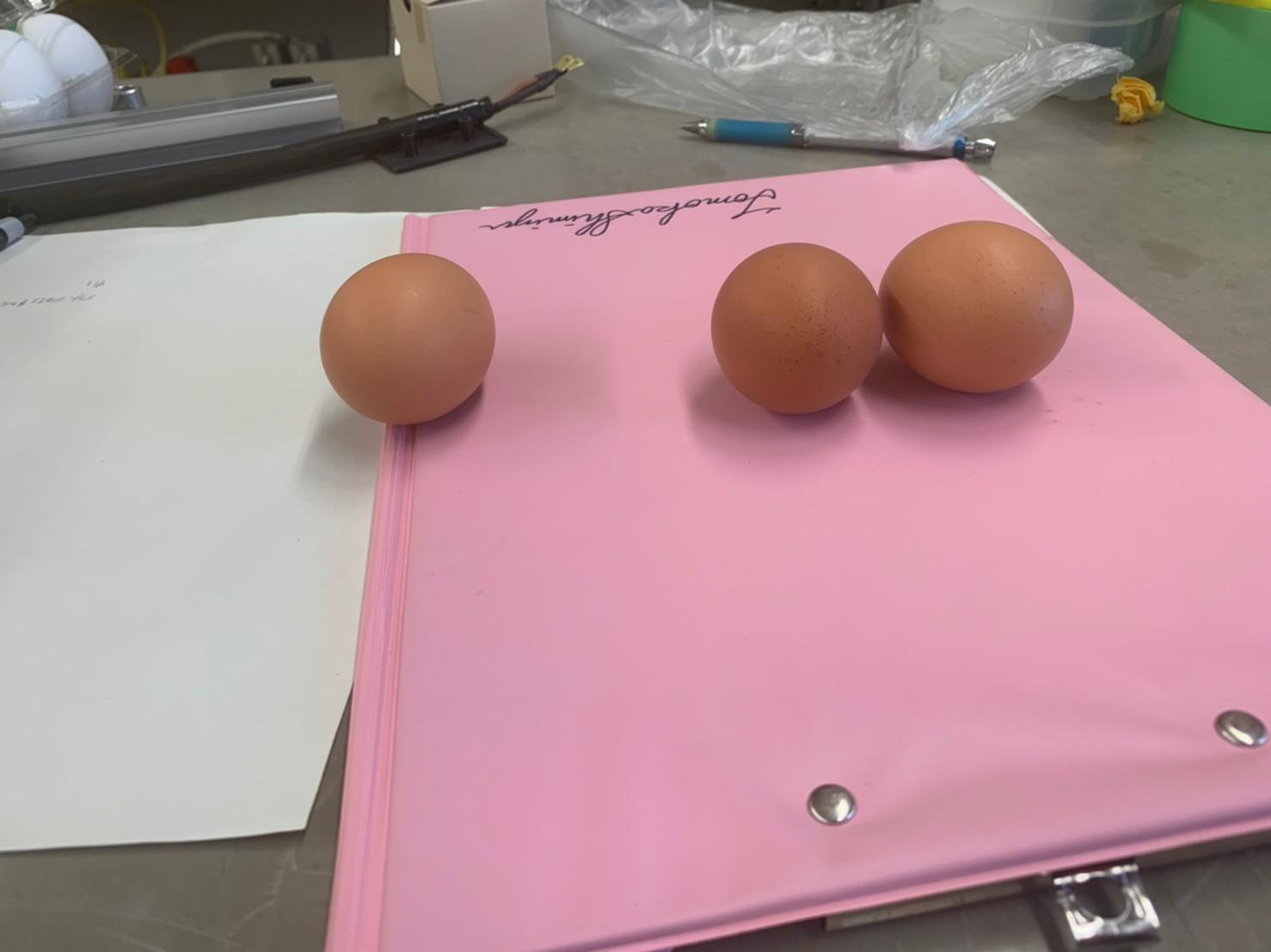egg: (873, 218, 1078, 397), (317, 247, 496, 427), (705, 236, 884, 415)
